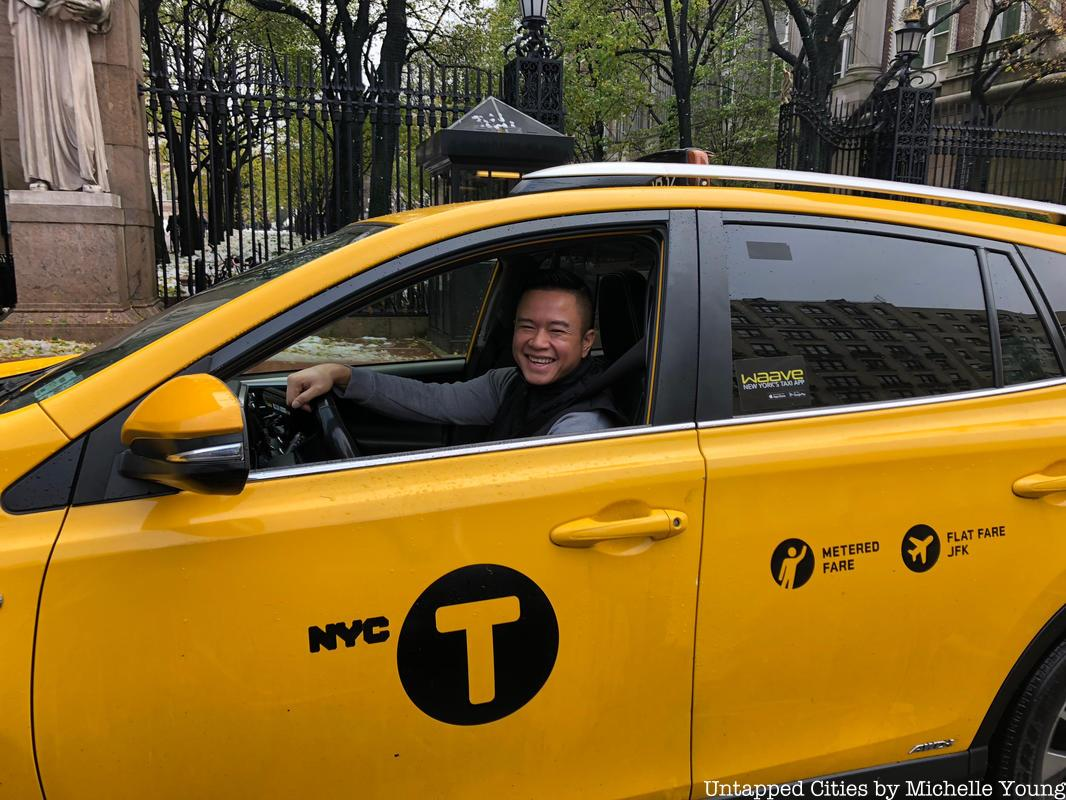taxi: (2, 110, 1066, 800)
